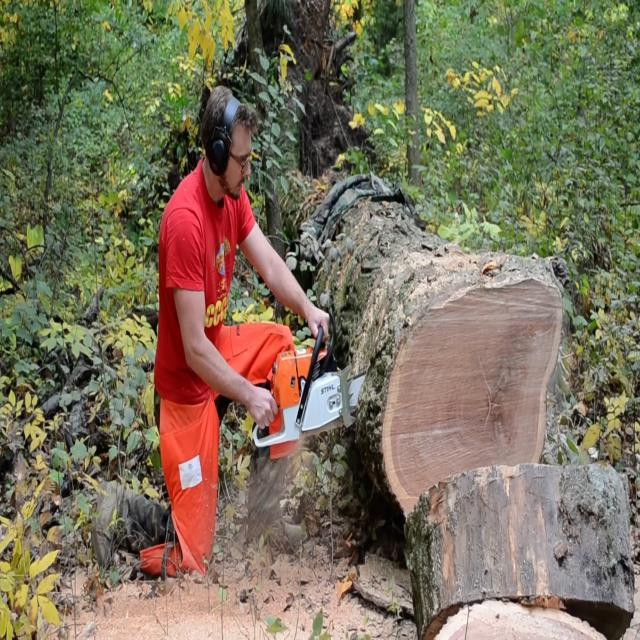Chainsaw: (232, 308, 406, 465)
